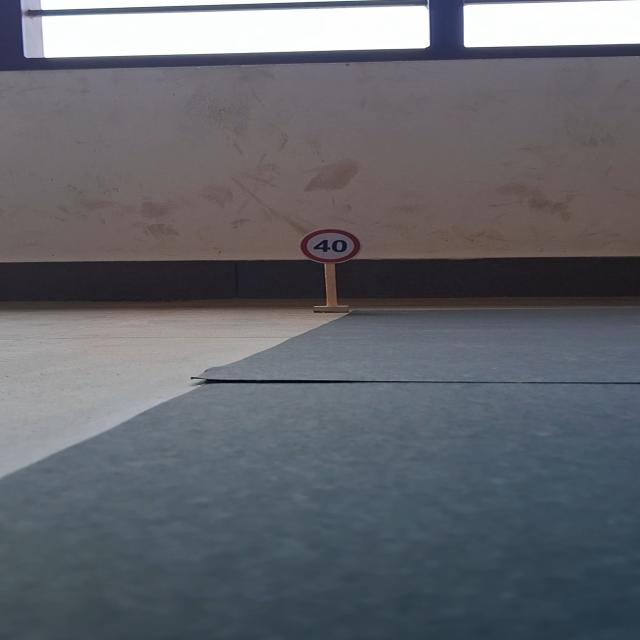Speed40: (299, 225, 362, 263)
